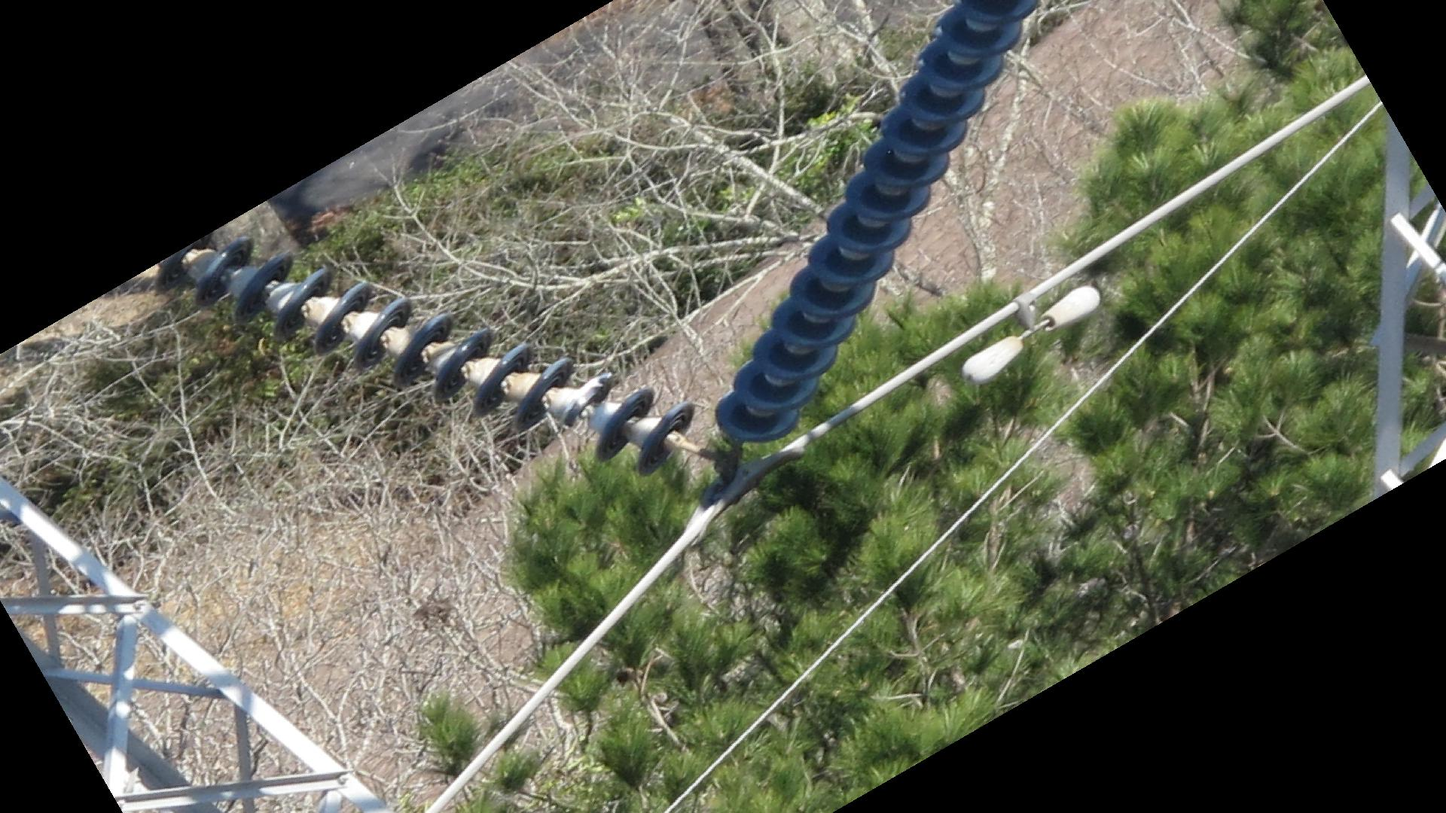insulator: (710, 1, 1044, 446), (188, 233, 700, 480)
insulator_breakage: (555, 370, 614, 430)
